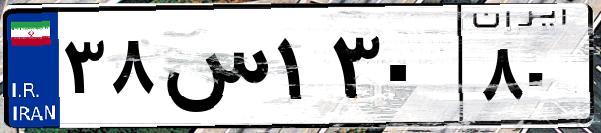0: (385, 28, 445, 110), (525, 38, 570, 115)
1: (270, 28, 330, 110)
3: (330, 28, 385, 110), (57, 26, 110, 100)
8: (475, 38, 525, 113), (110, 28, 158, 98)
س: (158, 20, 270, 120)
